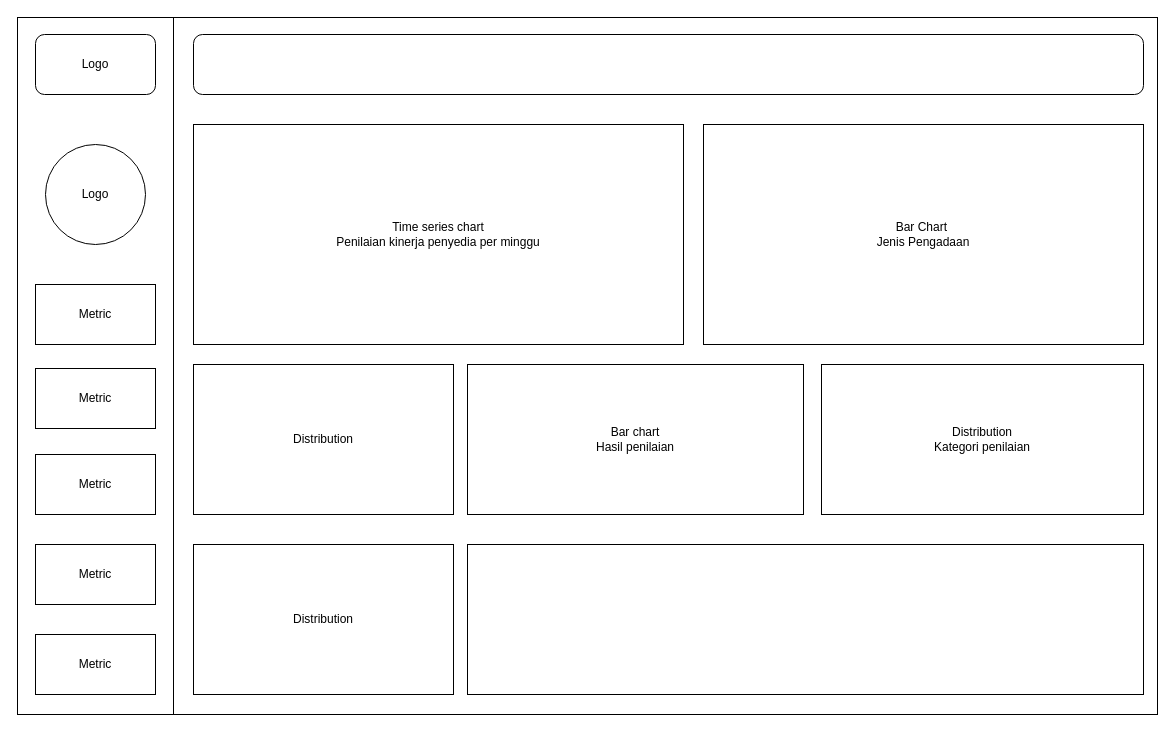
This 1175x732 diagram has some shape labels left out. The centre of each missing label's shape, as x and y in pixels:
"Table Data data paket yang sudah dinilai" goes at (805,619).
"Title" goes at (668,64).
